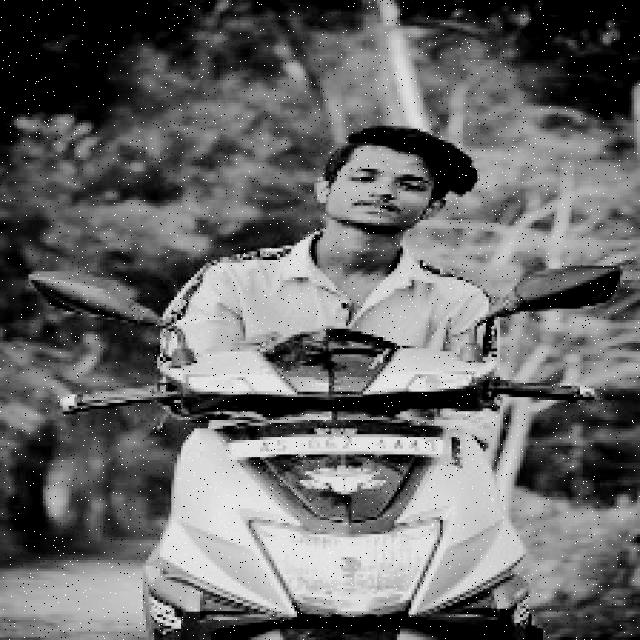Bike: (81, 303, 595, 639)
